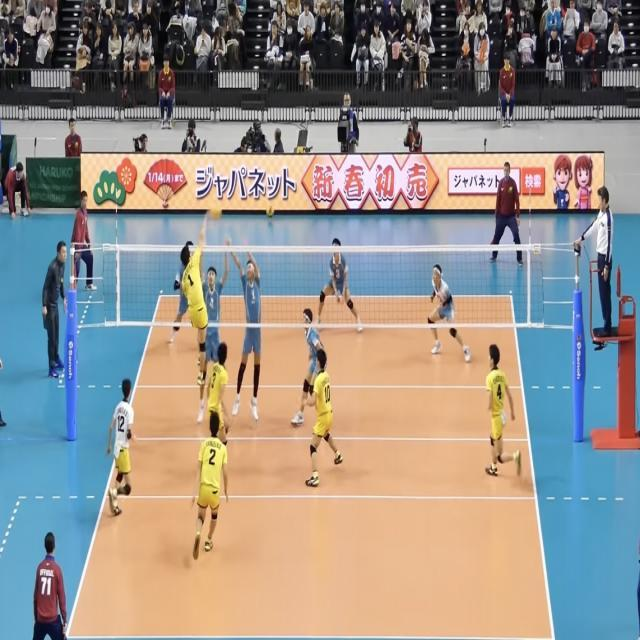spike: (178, 199, 224, 389)
